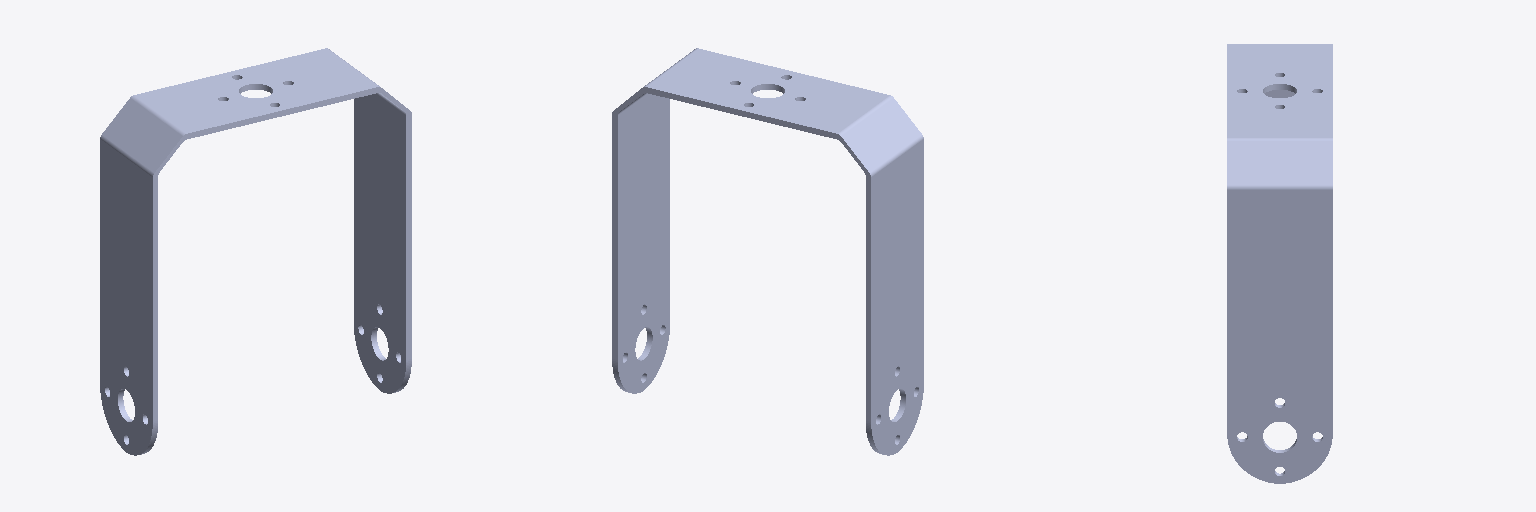
File: sujetador_base.obj
3 renders of one model, left to right at view 1: azimuth 30°, elevation 25°; view 2: azimuth 150°, elevation 25°; view 3: azimuth 270°, elevation 25°, orthographic.
Parts seen in each view (by area): view 1: Cut_Extrude2; view 2: Cut_Extrude2; view 3: Cut_Extrude2.
Part boxes in pixels (left/top/right/bottom): Cut_Extrude2: left=100, top=48, right=411, bottom=455; Cut_Extrude2: left=612, top=48, right=923, bottom=455; Cut_Extrude2: left=1227, top=44, right=1332, bottom=483.
Bounding box in the file's own units: 27.35 × 33.26 × 9.65.